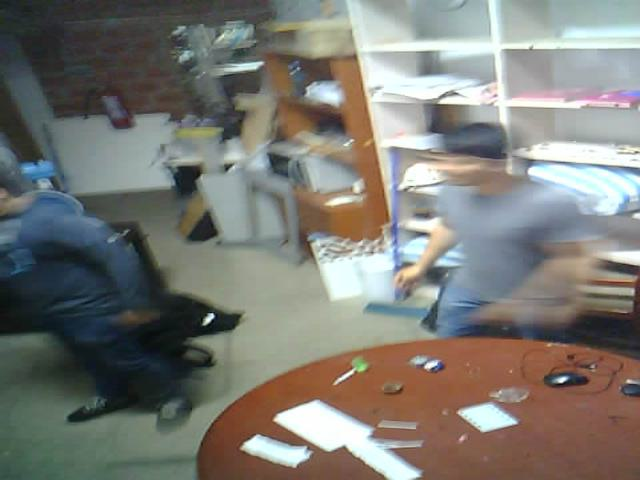person: (0, 150, 224, 454), (399, 97, 606, 393)
